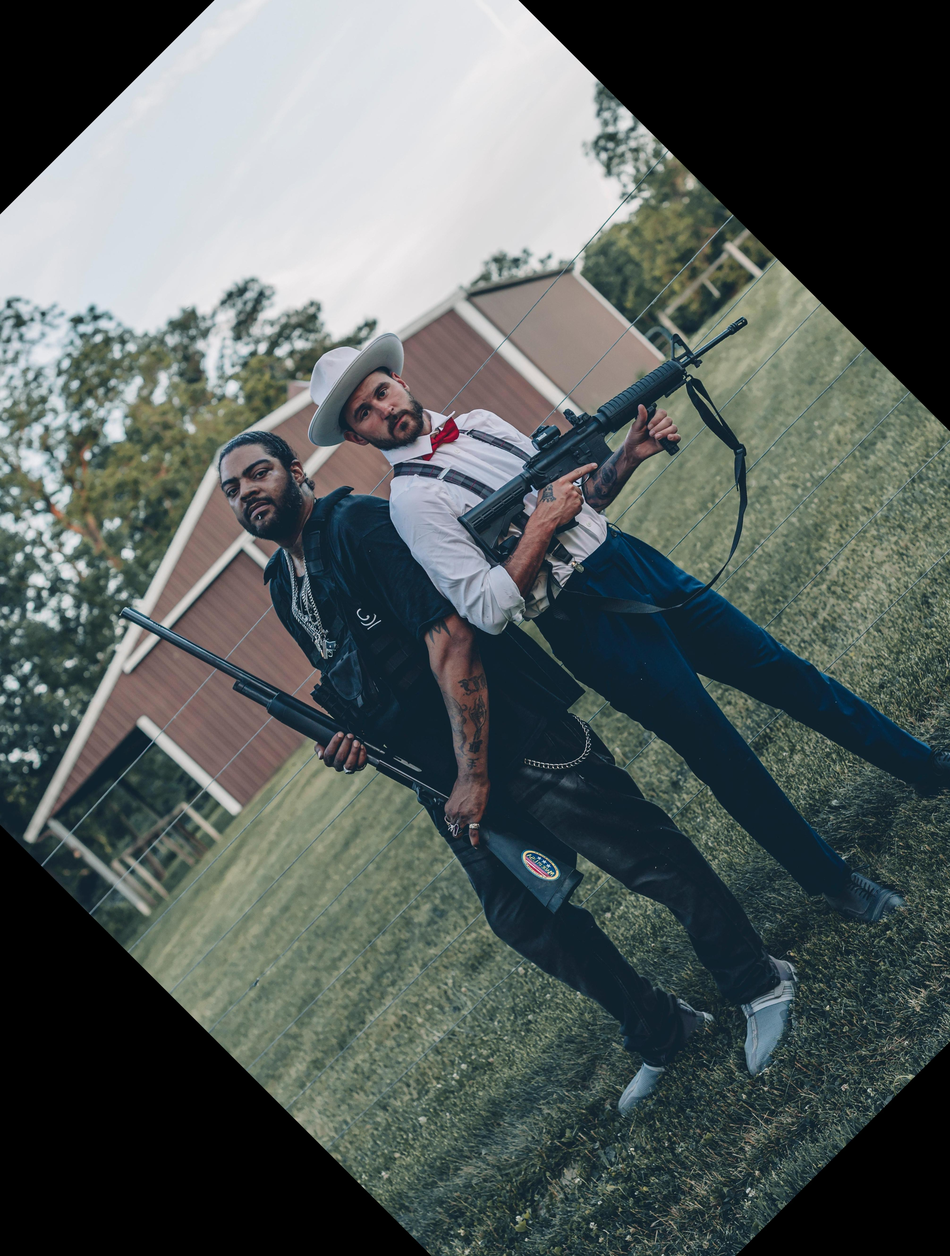larga: (458, 316, 748, 566)
